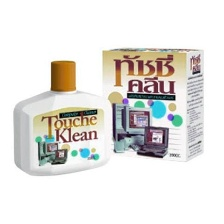book: (95, 45, 206, 163)
cleaning_solution: (7, 56, 115, 179)
